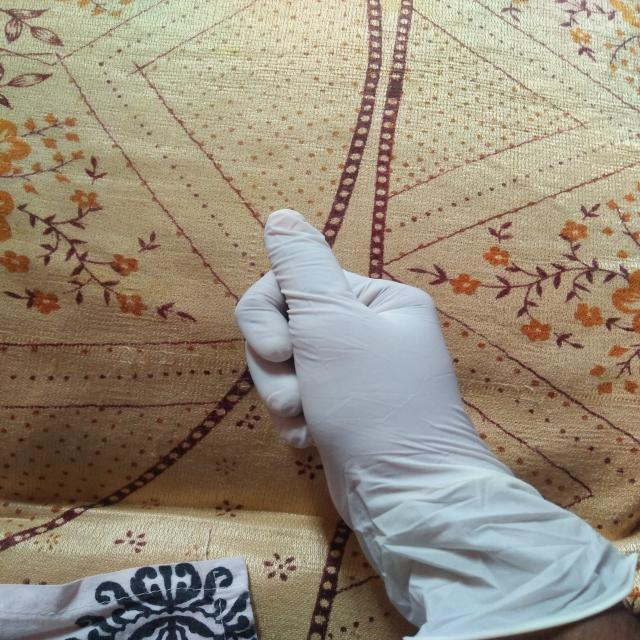glove_hand: (226, 207, 636, 640)
